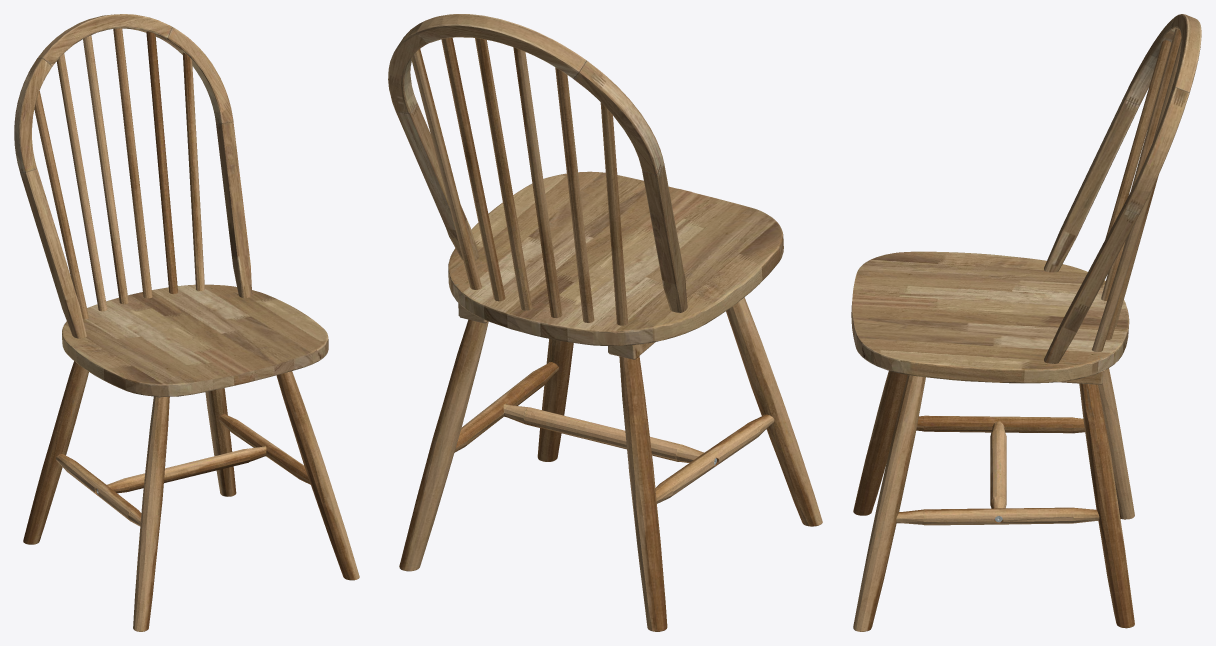
The picture shows the model from 3 angles, left to right: view 1: azimuth 30°, elevation 25°; view 2: azimuth 150°, elevation 25°; view 3: azimuth 270°, elevation 25°; orthographic projection. The views are drawn at different scales.
Parts seen in each view (by area): view 1: model_NODE_ID_0; view 2: model_NODE_ID_0; view 3: model_NODE_ID_0.
Boxes of the visible parts, box(x1,y1,x2,y2) form: model_NODE_ID_0: box(14, 14, 359, 631); model_NODE_ID_0: box(388, 14, 822, 631); model_NODE_ID_0: box(851, 14, 1201, 631).
Size of the model in its own units: 0.46 by 0.94 by 0.55.
1 material, 1 textured.
